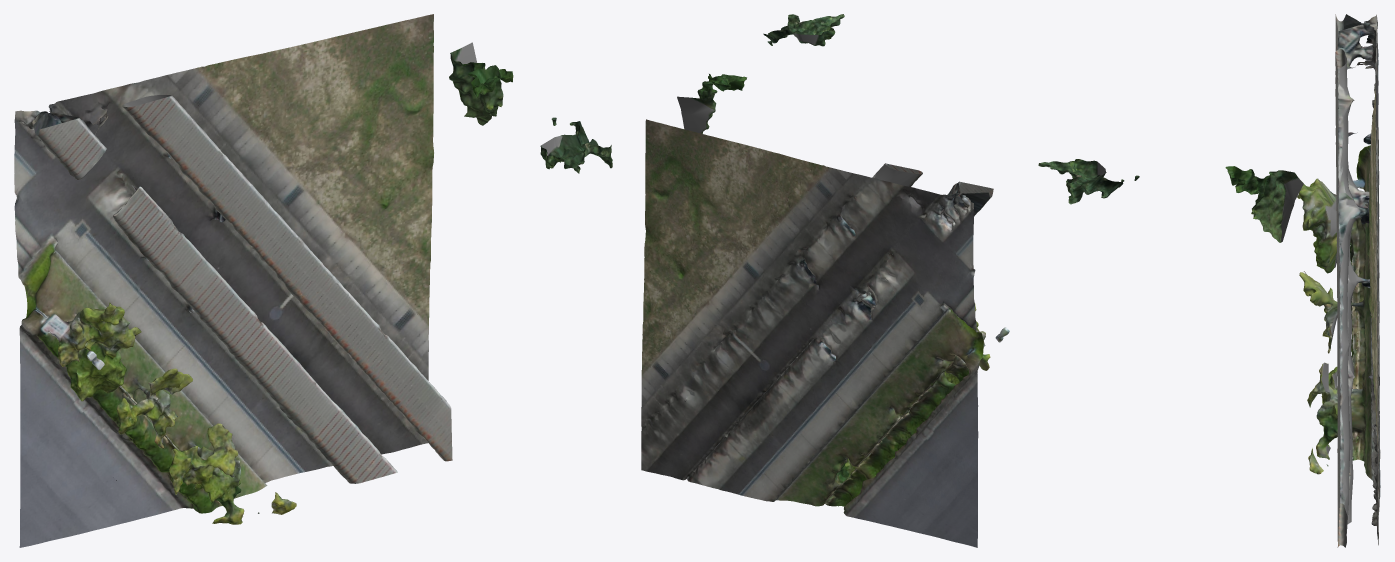
File: Tile_+017_+023.fbx
3 renders of one model, left to right at view 1: azimuth 30°, elevation 25°; view 2: azimuth 150°, elevation 25°; view 3: azimuth 270°, elevation 25°, orthographic. The views are drawn at different scales.
Visible parts, largest first — view 1: DefaultName; view 2: DefaultName; view 3: DefaultName.
Boxes of the visible parts, x1,y1,x2,y2 form: DefaultName: [14, 14, 612, 547]; DefaultName: [641, 14, 1009, 547]; DefaultName: [1038, 14, 1380, 547].
Bounding box in the file's own units: 22.54 × 22.54 × 19.19.
